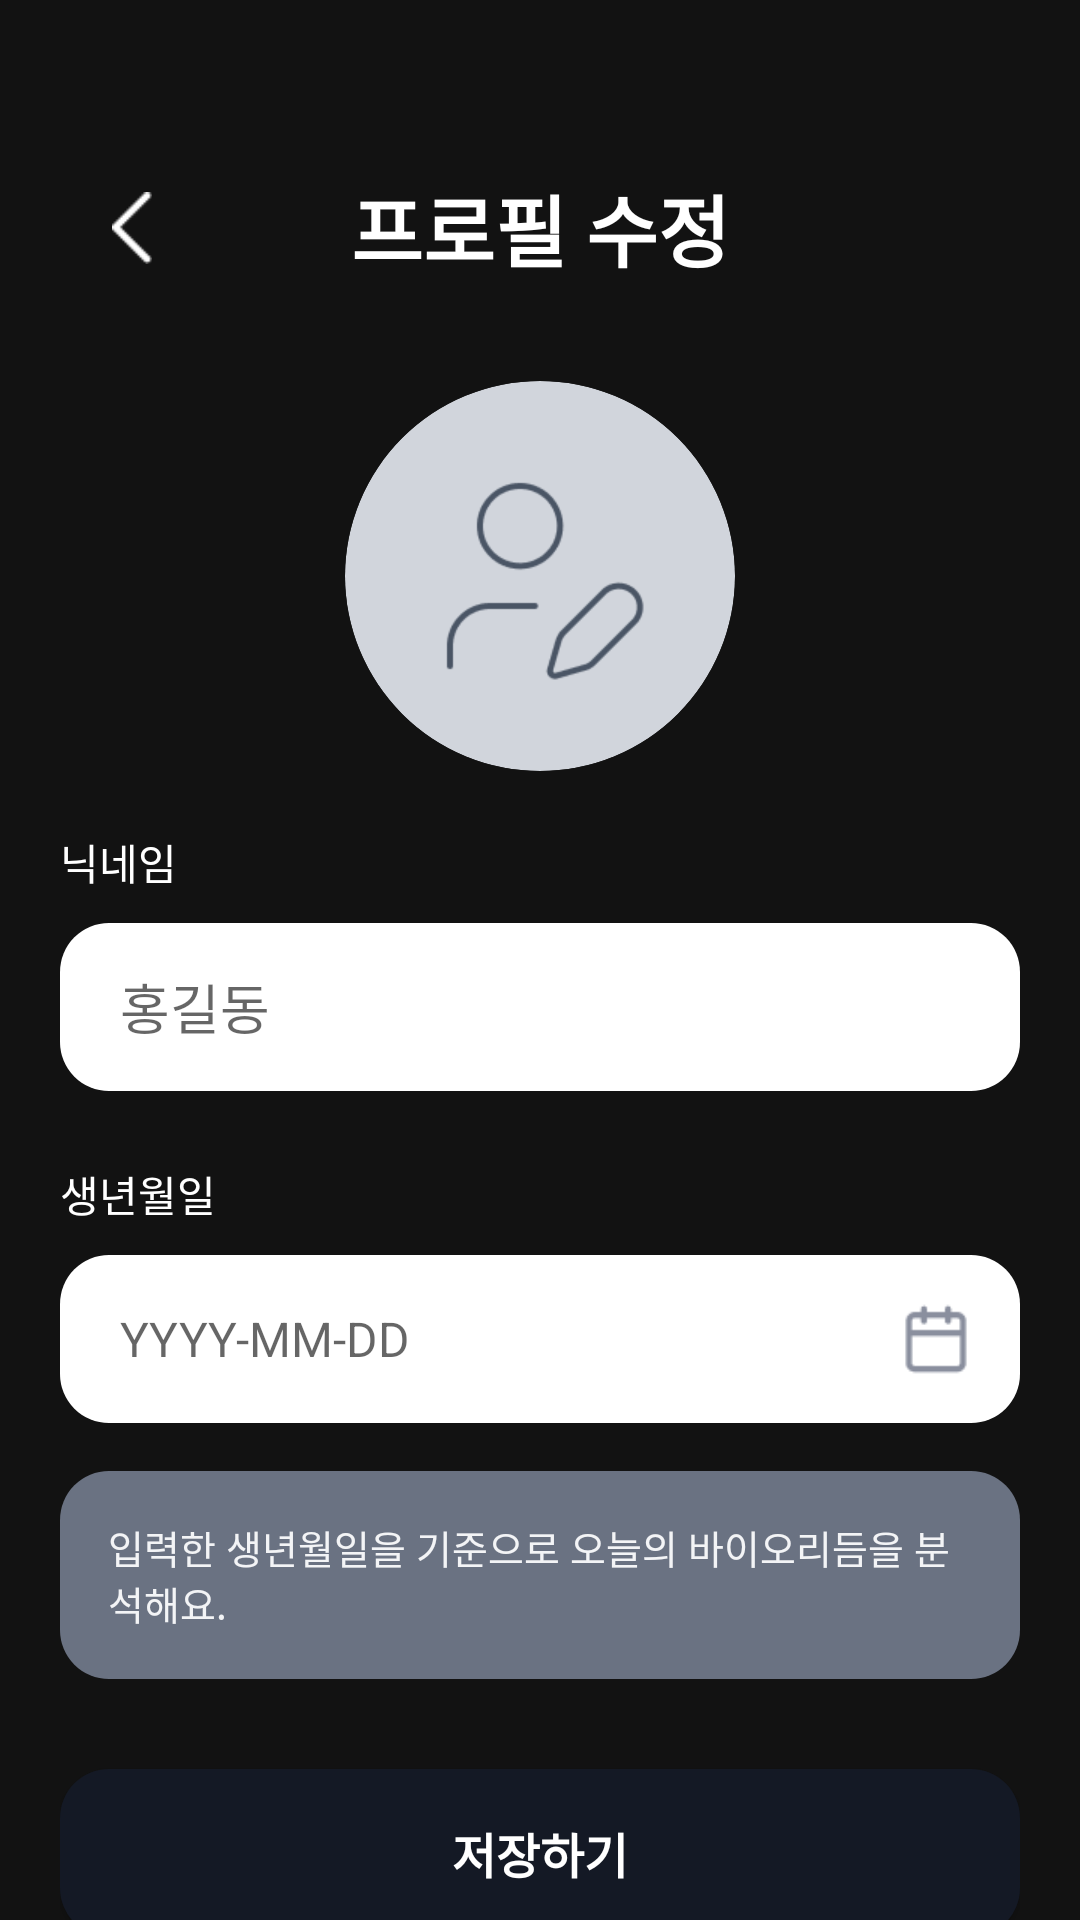

Icon bounding boxes for this 1080x1920 phone screenshot, format (x1, y1, x2, y2):
calendar: (905, 1305, 967, 1373)
profile edit: (447, 483, 644, 680)
뒤로 가기: (112, 192, 152, 264)
